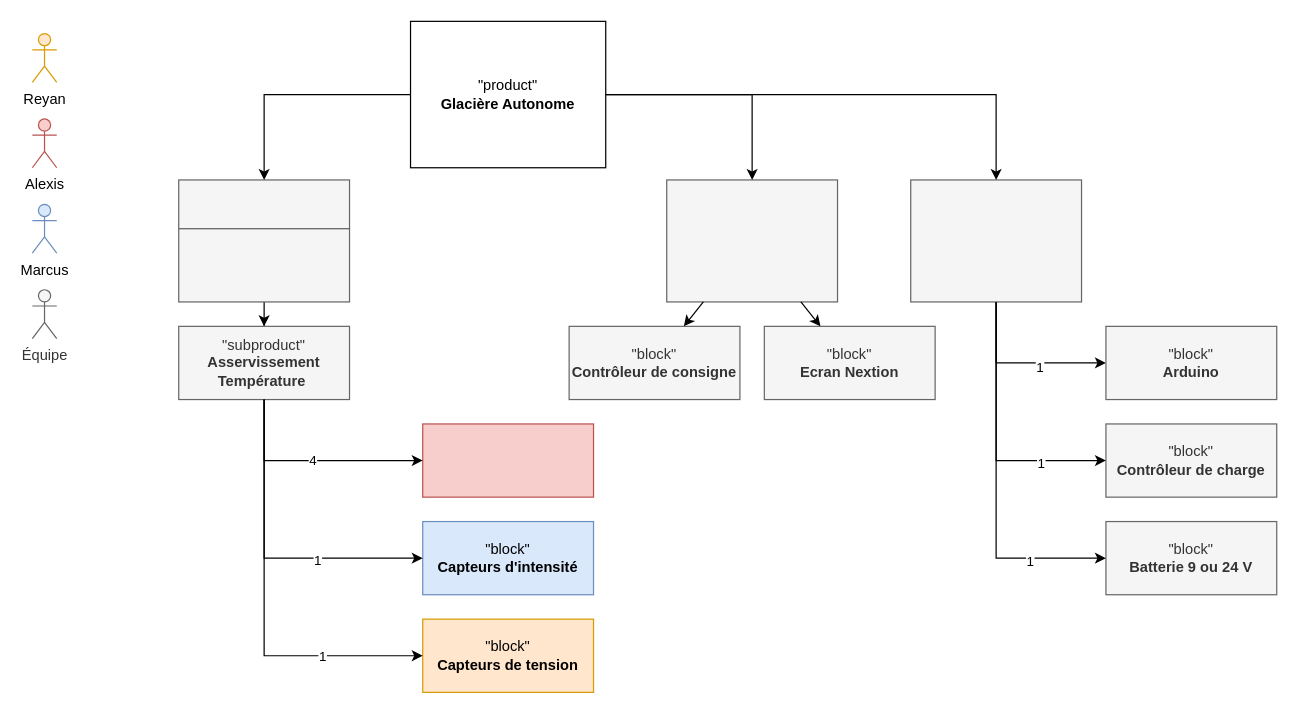
The diagram is 1298 pixels wide and 714 high, and some of its shapes have lost their labels. The centre of each missing label's shape, as x and y in pixels:
"block" Capteurs de température: pixel 508 460
"subproduct" IHM: pixel 752 240
"subproduct" Partie Commande: pixel 996 240
"subproduct" Partie Opérative: pixel 264 204
parties : Capteurs : Refroidisseur: pixel 264 265
